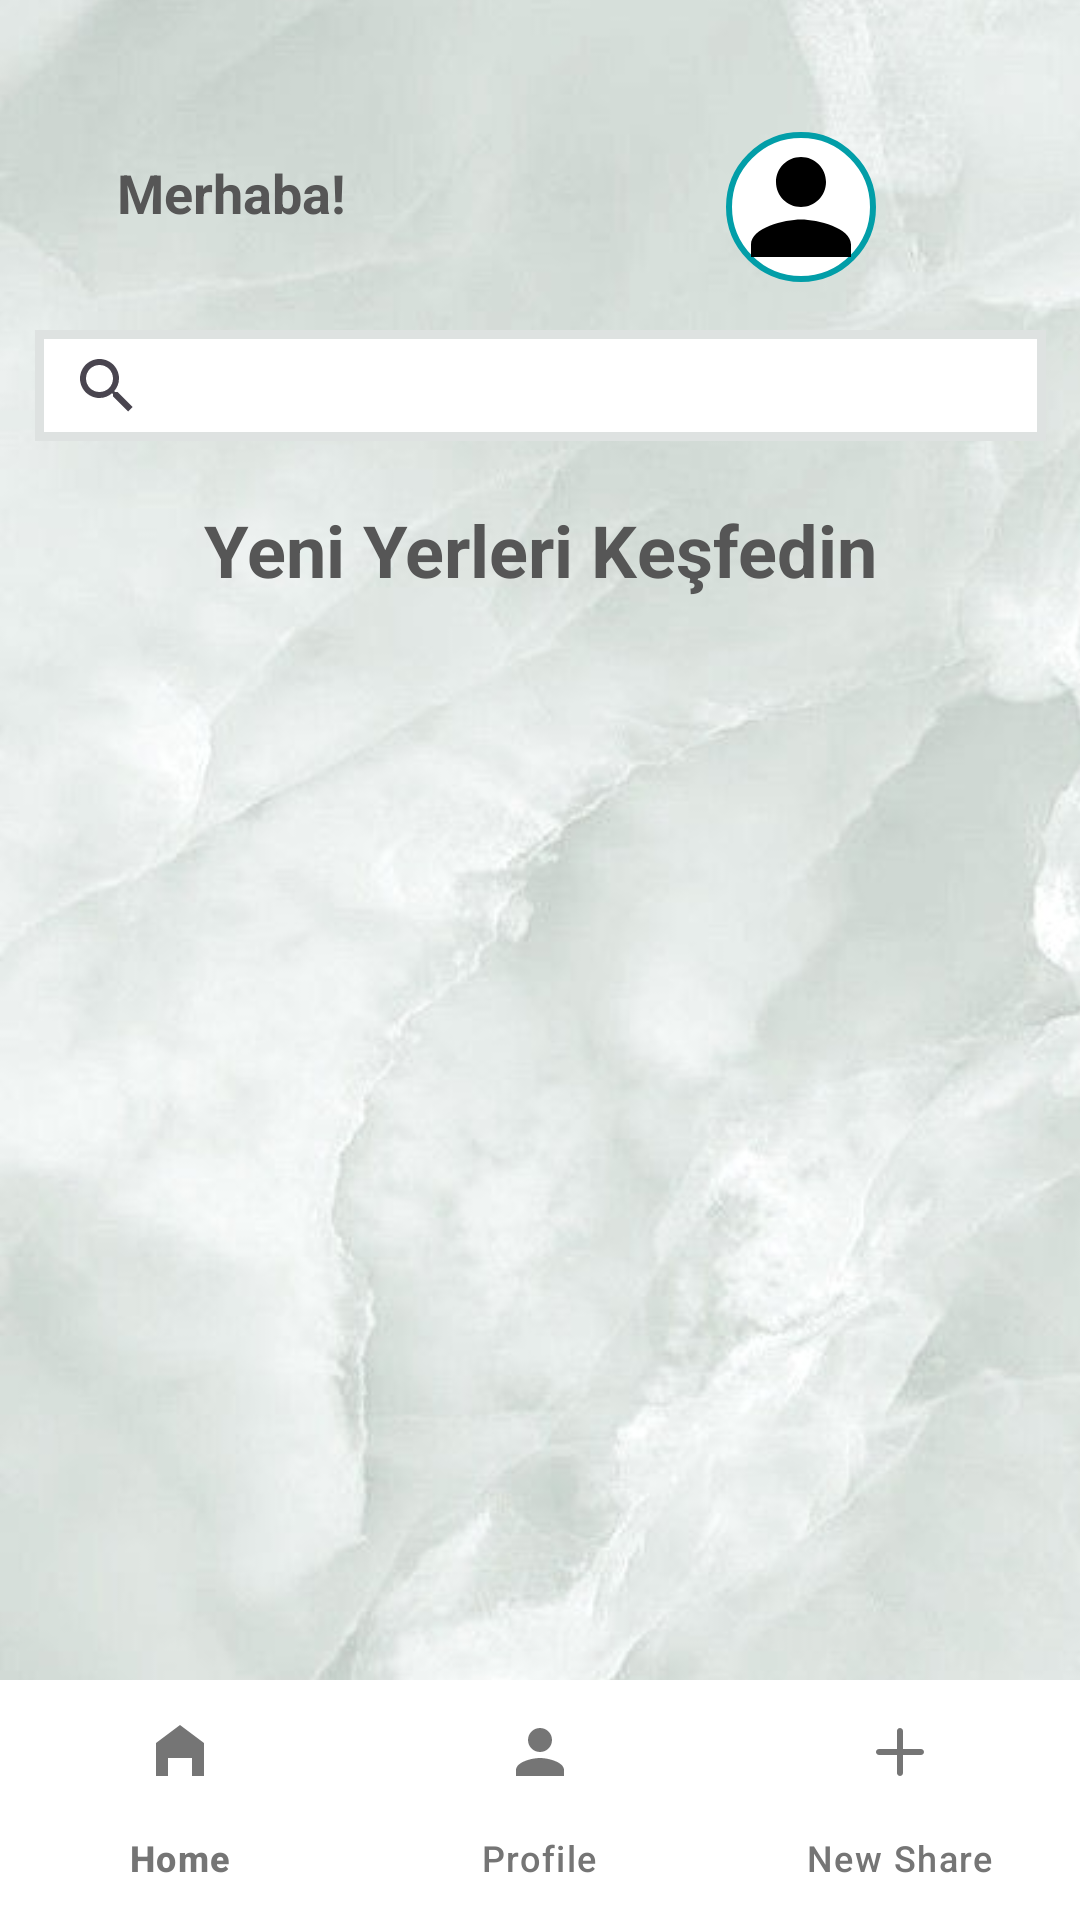

Icon click points for this 1080 × 1920 phone screenshot, format (x,y):
profile: (801,207)
